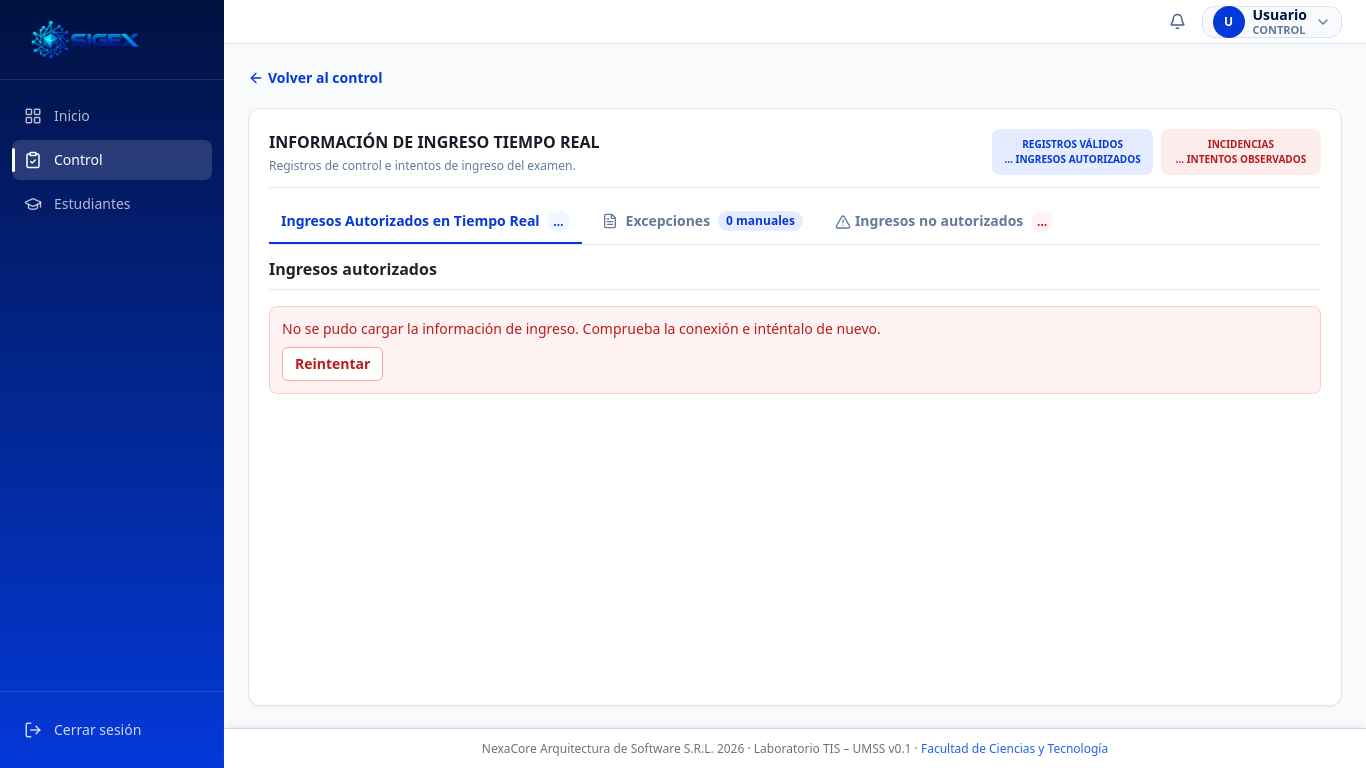
Scenario: InformacionIngresoPage (ACCS-02 / ACCS-05) › muestra error y permite reintentar la consulta de las dos listas
The width and height of the screenshot is (1366, 768).
Expected: the message shows "No se pudo cargar la información de ingreso", [282,319,881,338]
Click the button "Reintentar" at (333, 364), box [282,347,383,381]
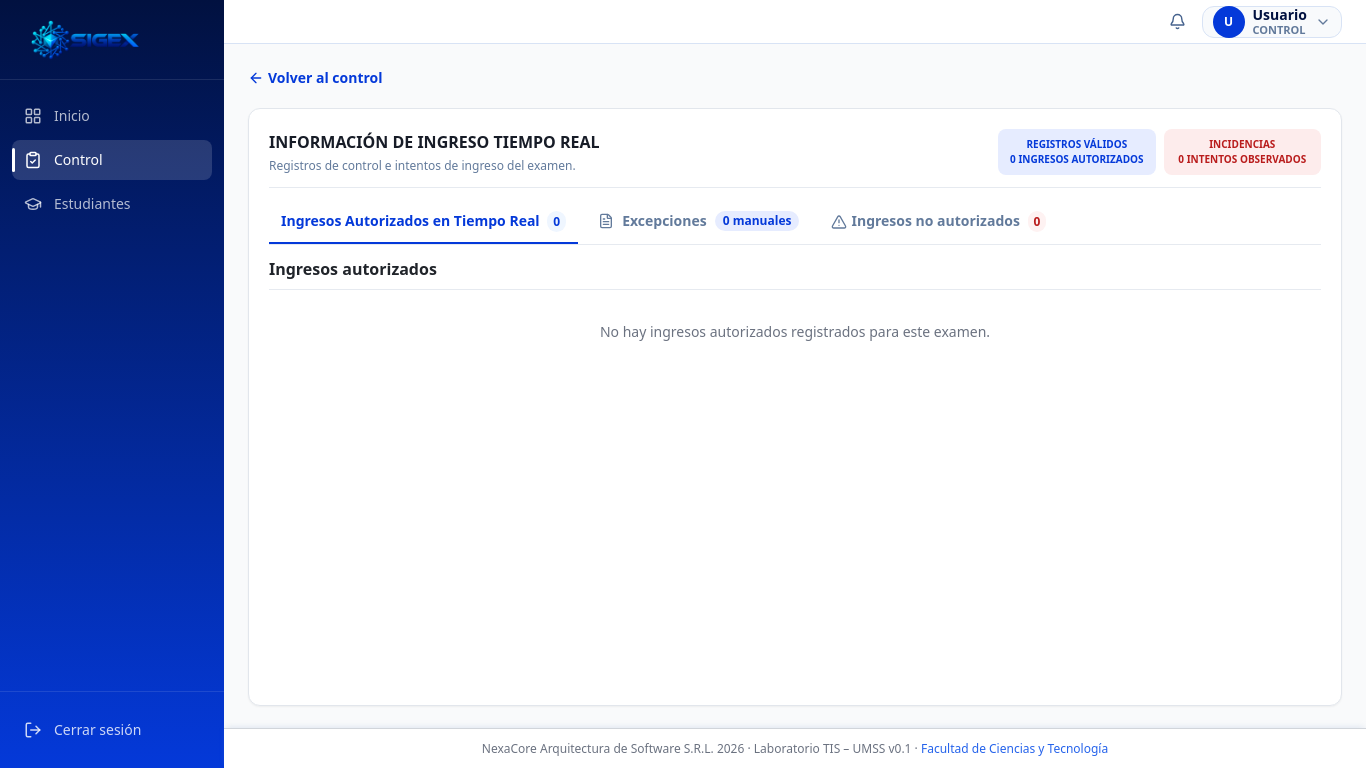
Result: the text "No hay ingresos autorizados registrados para este examen." is shown at [600,322,990,341]
